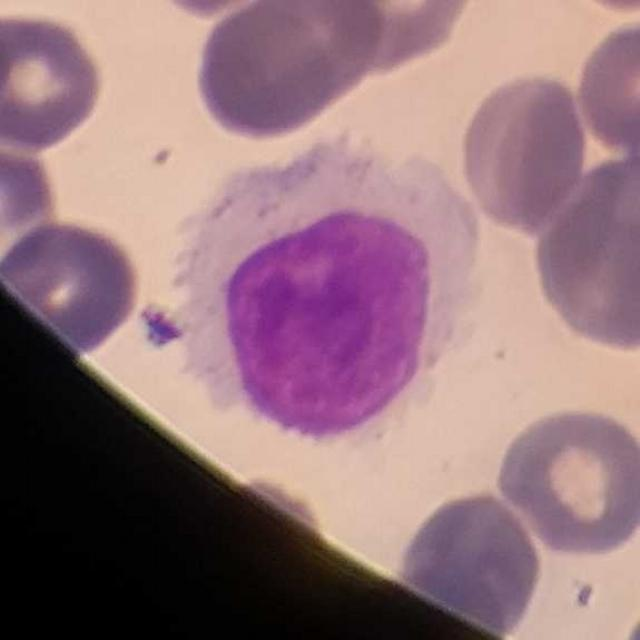Monocyte: (170, 130, 488, 441)
Platelets: (137, 305, 186, 354)
RBC: (190, 0, 385, 142), (491, 401, 640, 560), (455, 67, 593, 237), (527, 150, 640, 357), (396, 486, 547, 638), (1, 214, 145, 352), (0, 5, 110, 154), (316, 0, 483, 76), (571, 10, 640, 159), (0, 134, 65, 280), (147, 0, 306, 19)
